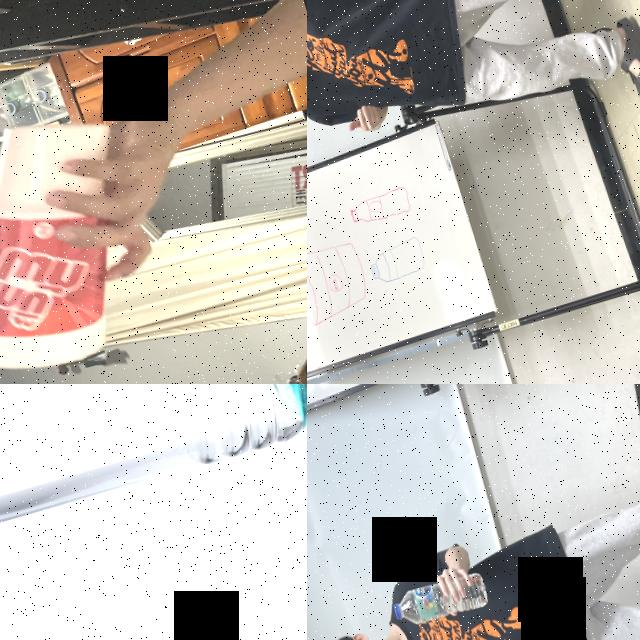bottle: (0, 384, 307, 592), (388, 564, 492, 630)
cup: (0, 98, 170, 384)
